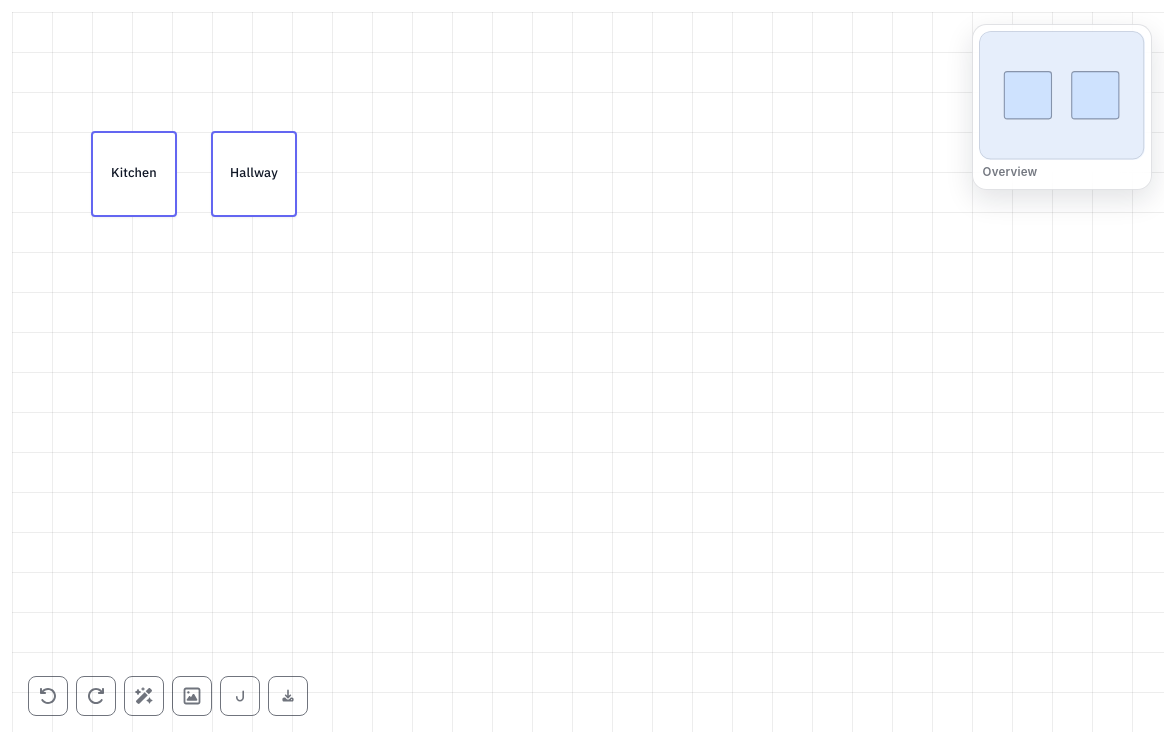
it: MapCanvas › room rendering › deletes every selected room when Delete is pressed on the canvas
Step 1. Press the mouse on the button "Kitchen" → (134, 174), box [92,132,176,216]
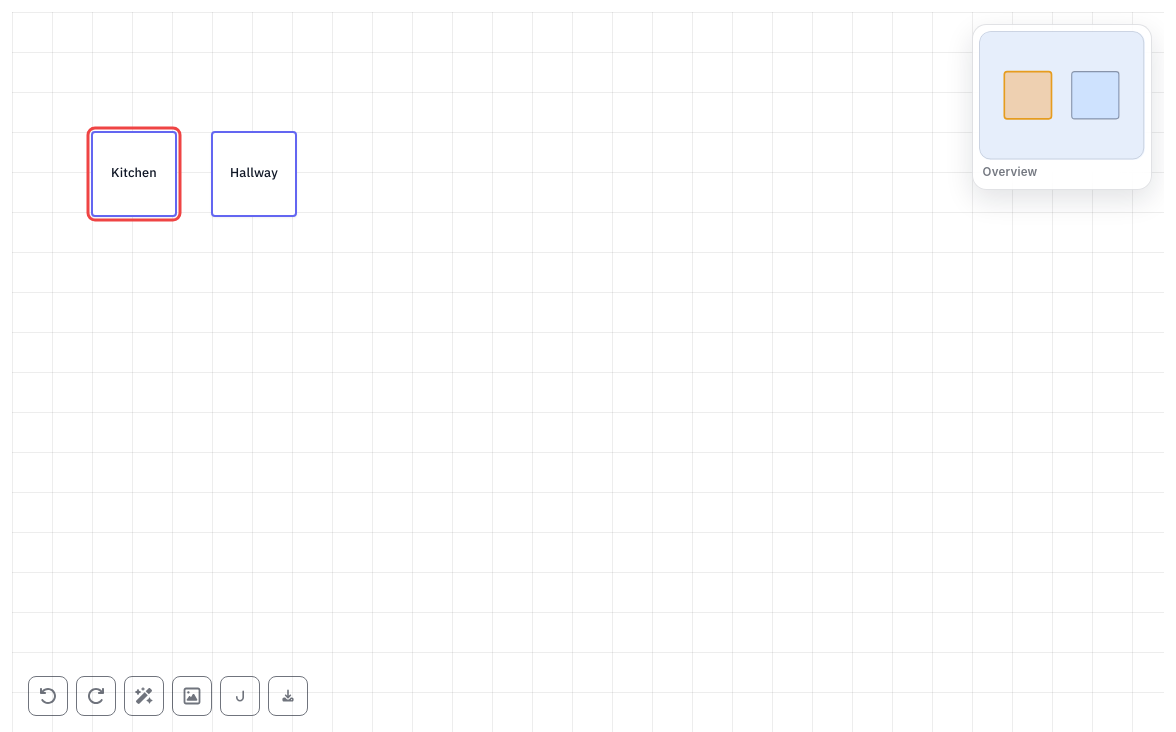
Step 2. Press the mouse on the button "Hallway" → (254, 174), box [212,132,296,216]
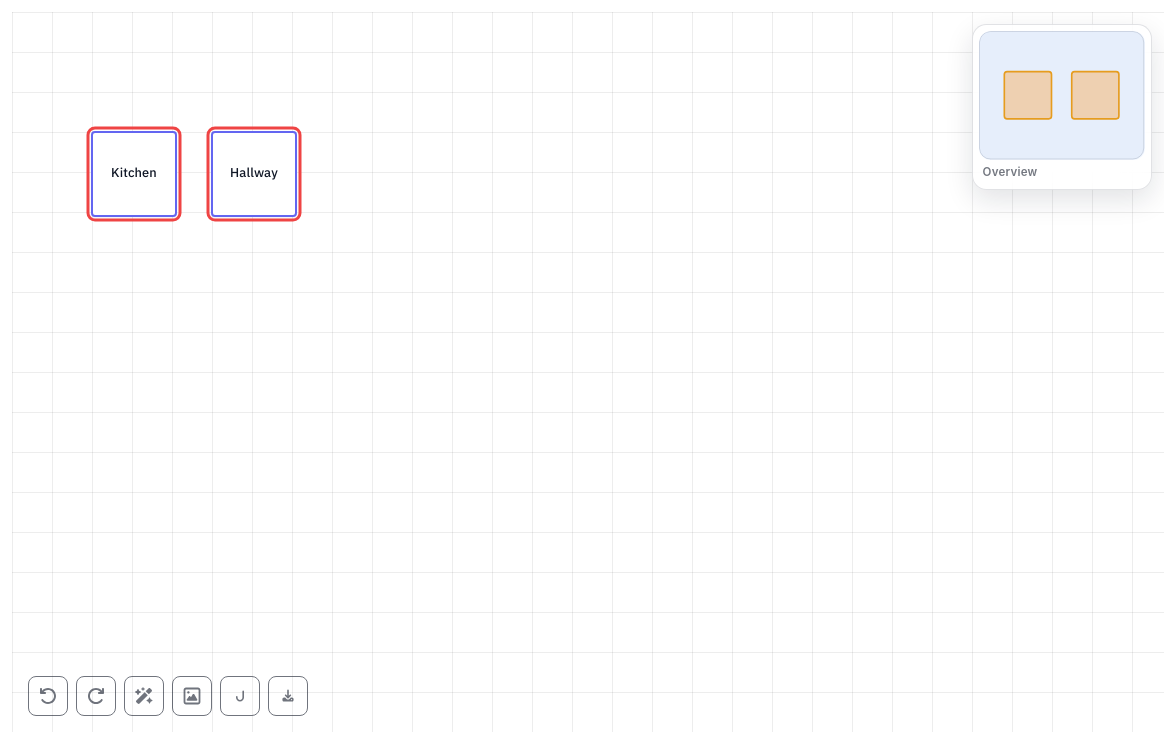
Step 3. Press Delete in the element with test id "map-canvas"
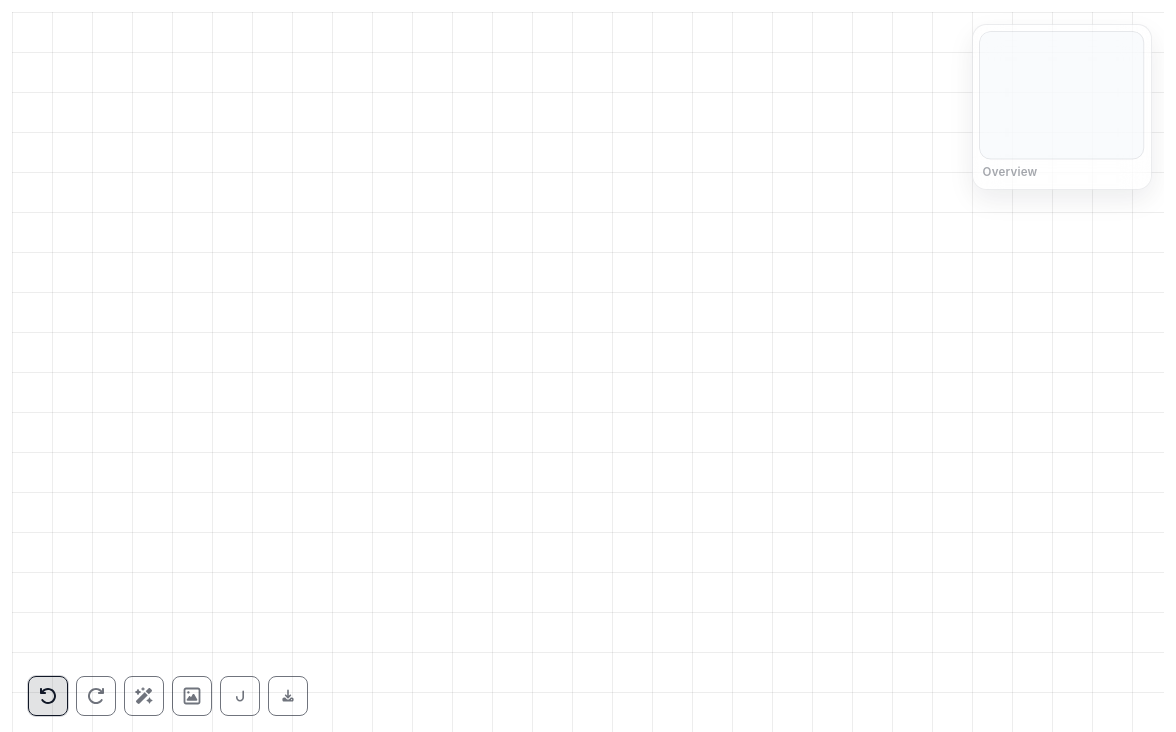
Expected: no buttons with test id "room-node" are shown
